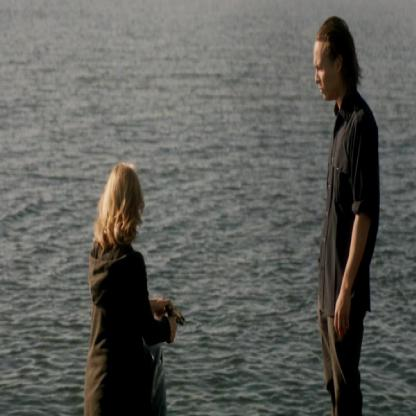Guns: (162, 298, 186, 330)
